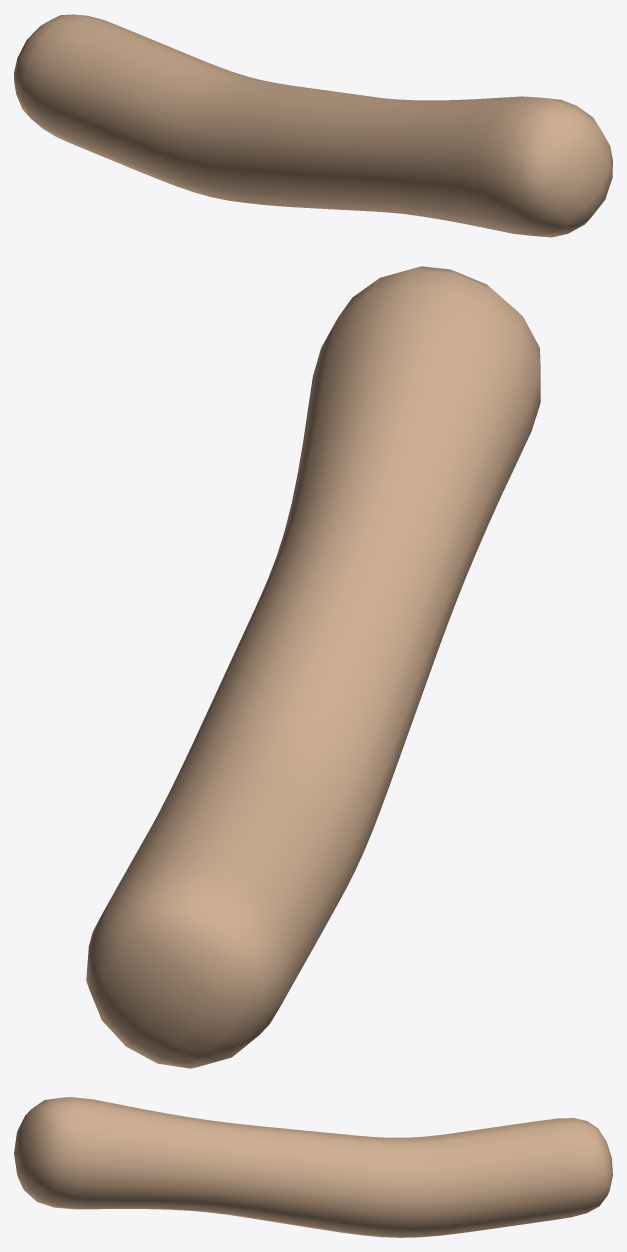
3 views of the same model, one above another, from view 1: azimuth 30°, elevation 25°; view 2: azimuth 150°, elevation 25°; view 3: azimuth 270°, elevation 25° (orthographic). The views are drawn at different scales.
Visible parts, largest first — view 1: 右侧桡侧腕屈肌腱鞘; view 2: 右侧桡侧腕屈肌腱鞘; view 3: 右侧桡侧腕屈肌腱鞘.
Boxes of the visible parts, bbox=[...] form: 右侧桡侧腕屈肌腱鞘: bbox=[14, 14, 612, 237]; 右侧桡侧腕屈肌腱鞘: bbox=[86, 266, 540, 1068]; 右侧桡侧腕屈肌腱鞘: bbox=[14, 1097, 612, 1237].
Size of the model in its own units: 0.0225 by 0.0171 by 0.0523.
